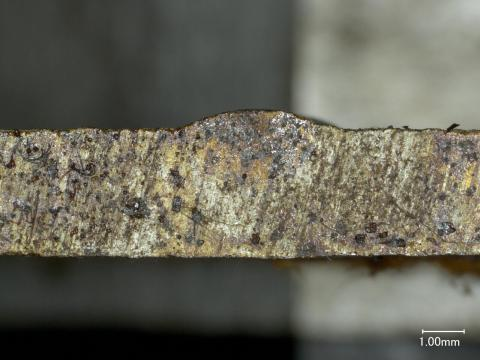test: (179, 110, 345, 130)
